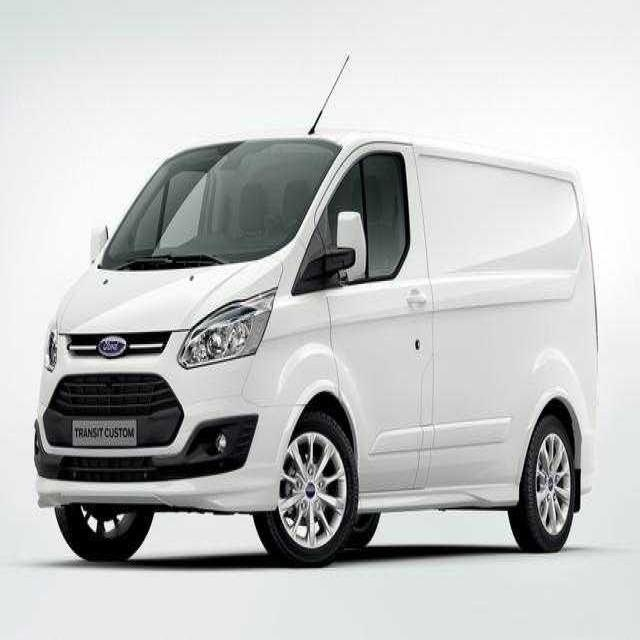Van: (32, 117, 600, 568)
